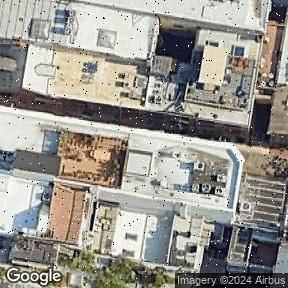vegetation: (68, 259, 174, 288)
